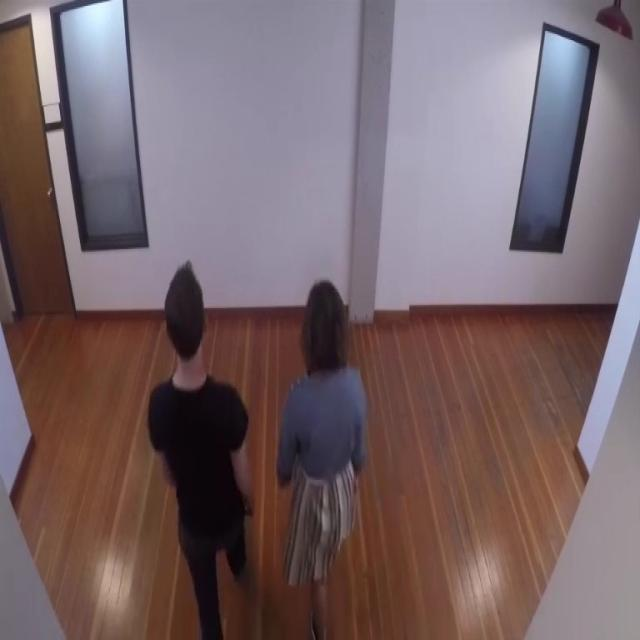Stupid: (146, 259, 255, 639), (276, 278, 366, 638)
